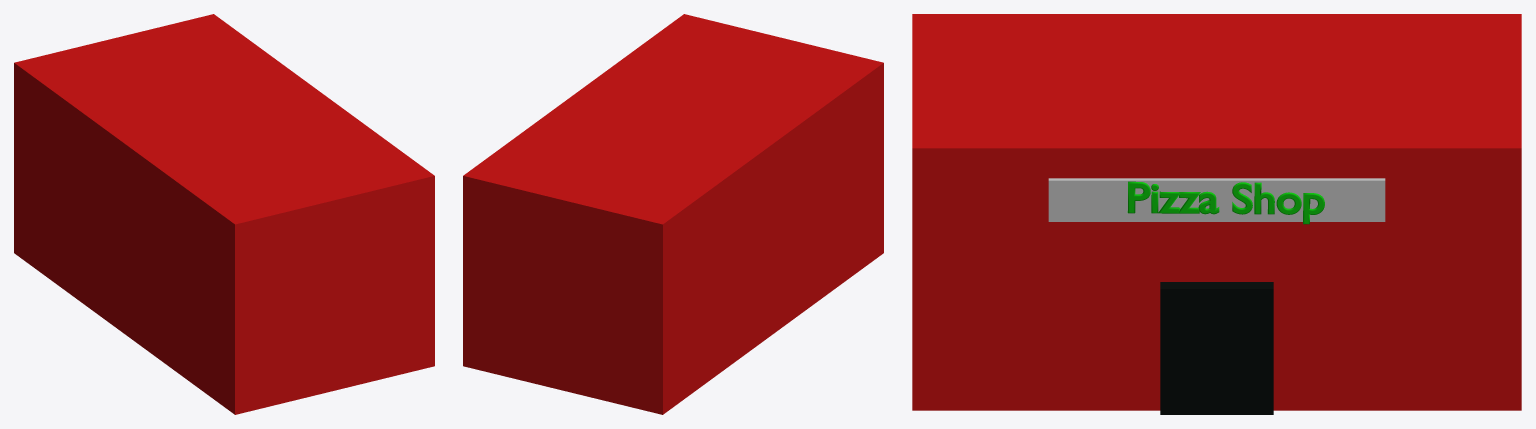
File: PizzaShop.obj
3 views of the same model, side by side, from view 1: azimuth 30°, elevation 25°; view 2: azimuth 150°, elevation 25°; view 3: azimuth 270°, elevation 25° (orthographic). The views are drawn at different scales.
Visible parts, largest first — view 1: Cube; view 2: Cube; view 3: Cube, Cube.001, Cube.002, Text.
Part boxes in pixels (x1=…): Cube: x1=14, y1=14, x2=434, y2=414; Cube: x1=463, y1=14, x2=883, y2=414; Cube: x1=912, y1=14, x2=1521, y2=410; Cube.001: x1=1160, y1=282, x2=1273, y2=414; Cube.002: x1=1048, y1=178, x2=1385, y2=221; Text: x1=1127, y1=181, x2=1324, y2=224.
Bounding box in the file's own units: 7.17 × 6.22 × 13.08.
